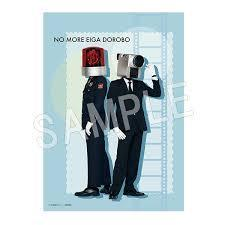no more kid: (115, 50, 147, 82)
